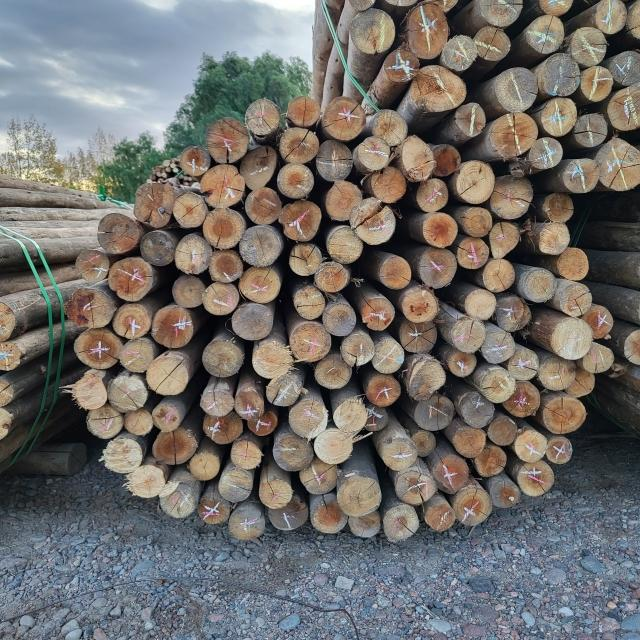package: (68, 100, 615, 539), (321, 1, 640, 190)
